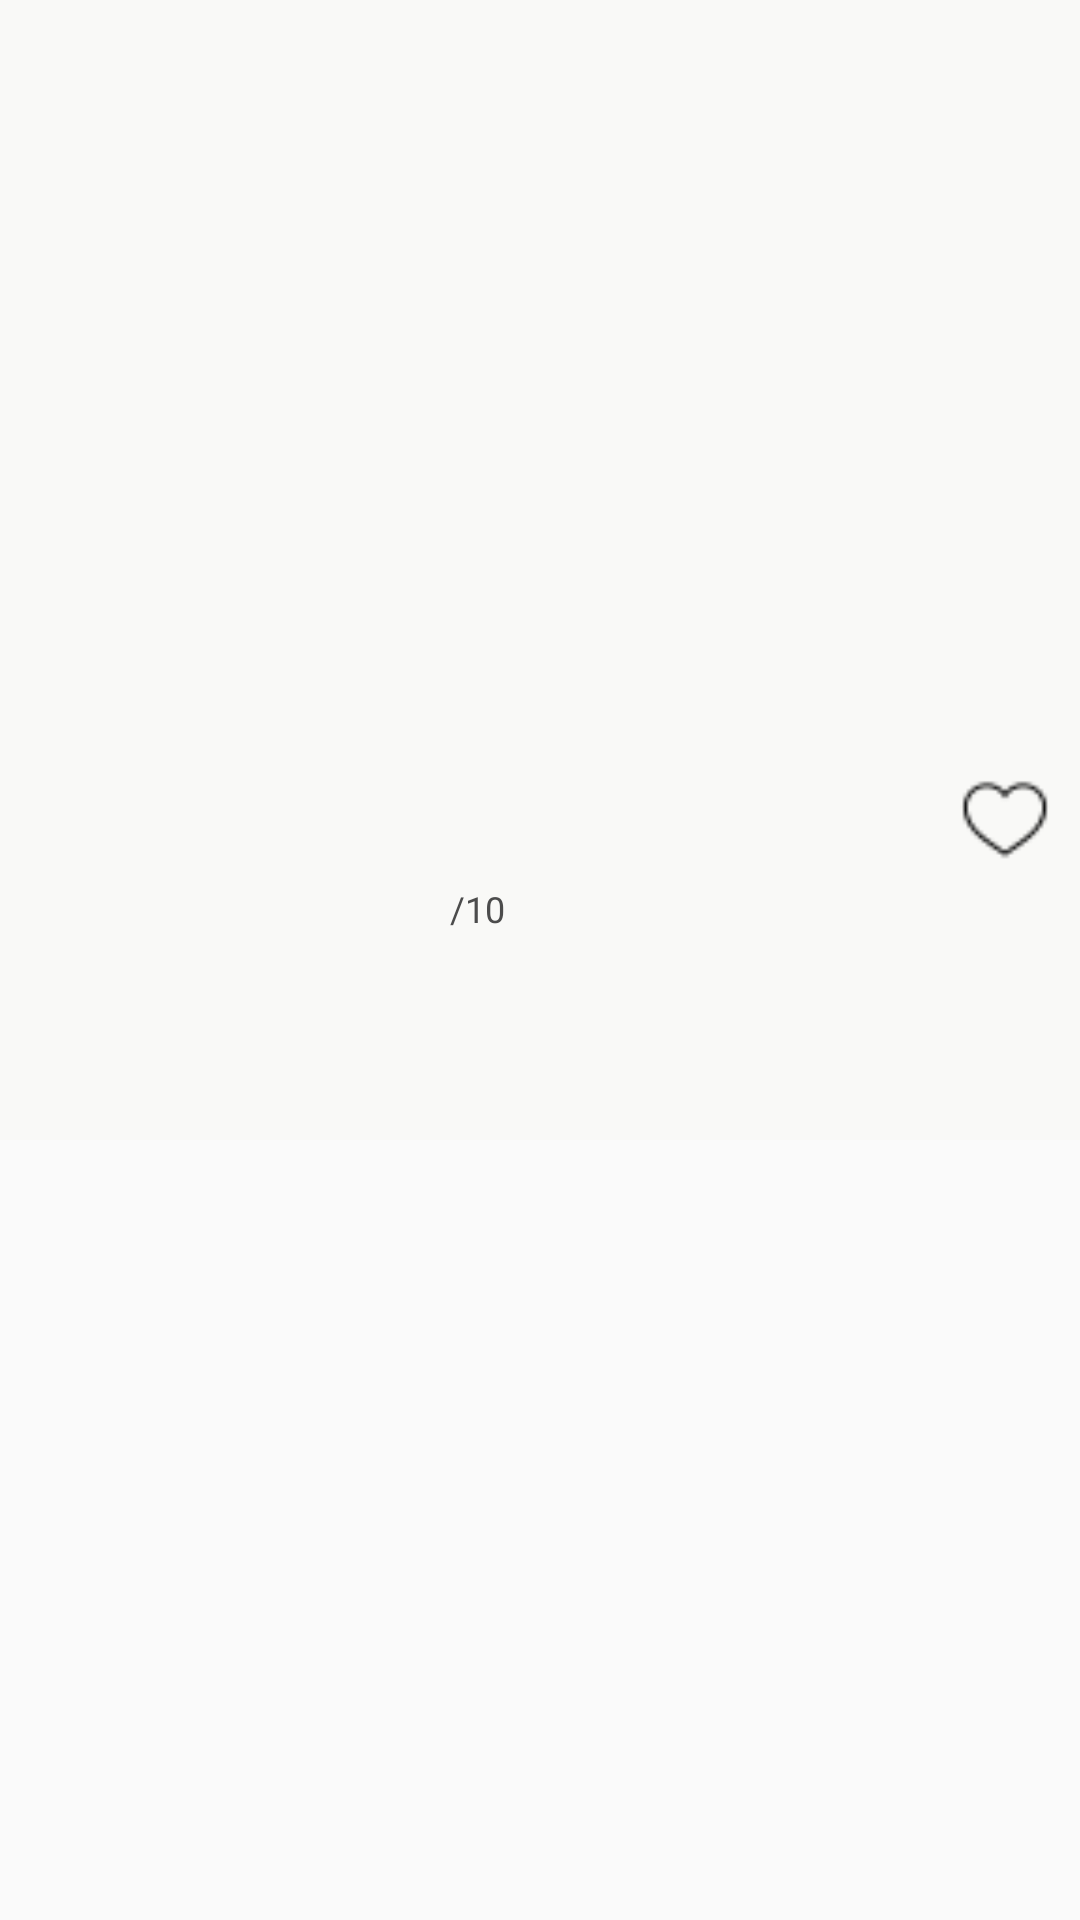

Icon click points for this 1080px x 1920px phone screenshot, format point (x, y):
heart off: point (1005, 819)
